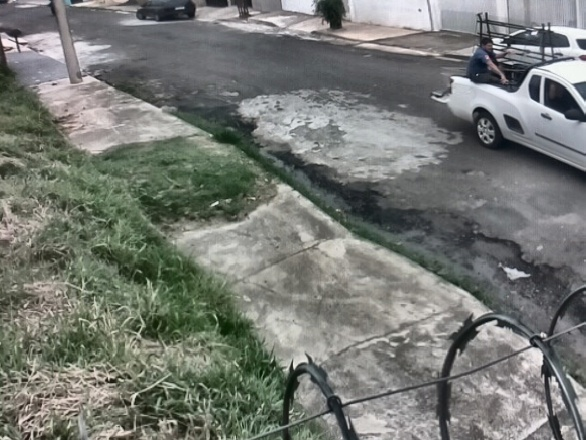person: (466, 37, 513, 84)
